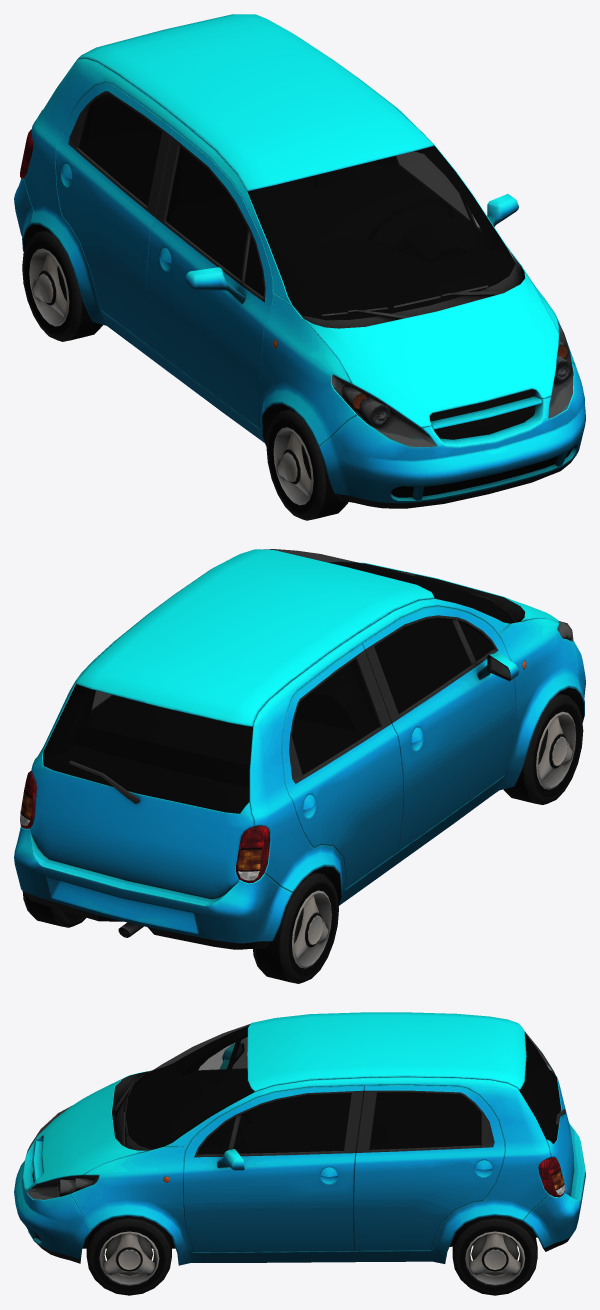
Rendered from compact.glb.
The picture shows the model from 3 angles, top to bottom: view 1: azimuth 30°, elevation 25°; view 2: azimuth 150°, elevation 25°; view 3: azimuth 270°, elevation 25°; orthographic projection. The views are drawn at different scales.
Parts seen in each view (by area): view 1: Body, Glass, Tire (×2), Optics; view 2: Body, Glass, Tire (×3), Optics; view 3: Body, Glass, Tire (×2), Optics.
Part boxes in pixels (box(x1,y1,x2,y2)): Body: box(14, 14, 585, 508); Glass: box(59, 84, 573, 447); Tire (×2): box(22, 229, 348, 520); Optics: box(20, 129, 571, 426); Body: box(14, 549, 585, 949); Glass: box(43, 549, 573, 813); Tire (×3): box(22, 693, 583, 983); Optics: box(20, 660, 526, 883); Body: box(14, 1012, 585, 1265); Glass: box(27, 1024, 560, 1199); Tire (×2): box(86, 1215, 537, 1295); Optics: box(57, 1157, 564, 1197).
Size of the model in its own units: 1.61 by 1.32 by 3.26.
4 materials, 3 textured.
